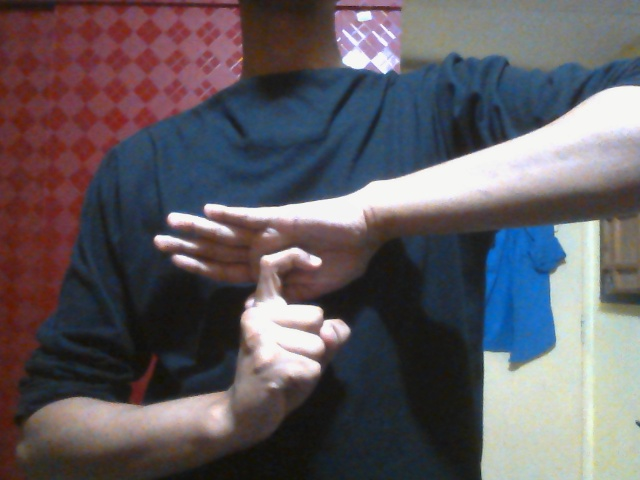R: (149, 198, 395, 440)
